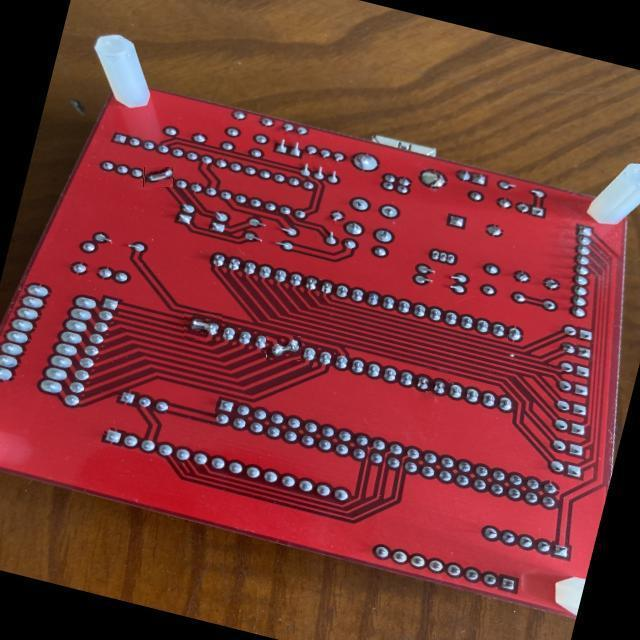damged: (184, 314, 222, 339), (266, 336, 301, 360), (144, 166, 174, 187)
